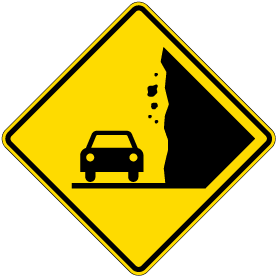FallenSign: (6, 1, 274, 276)
